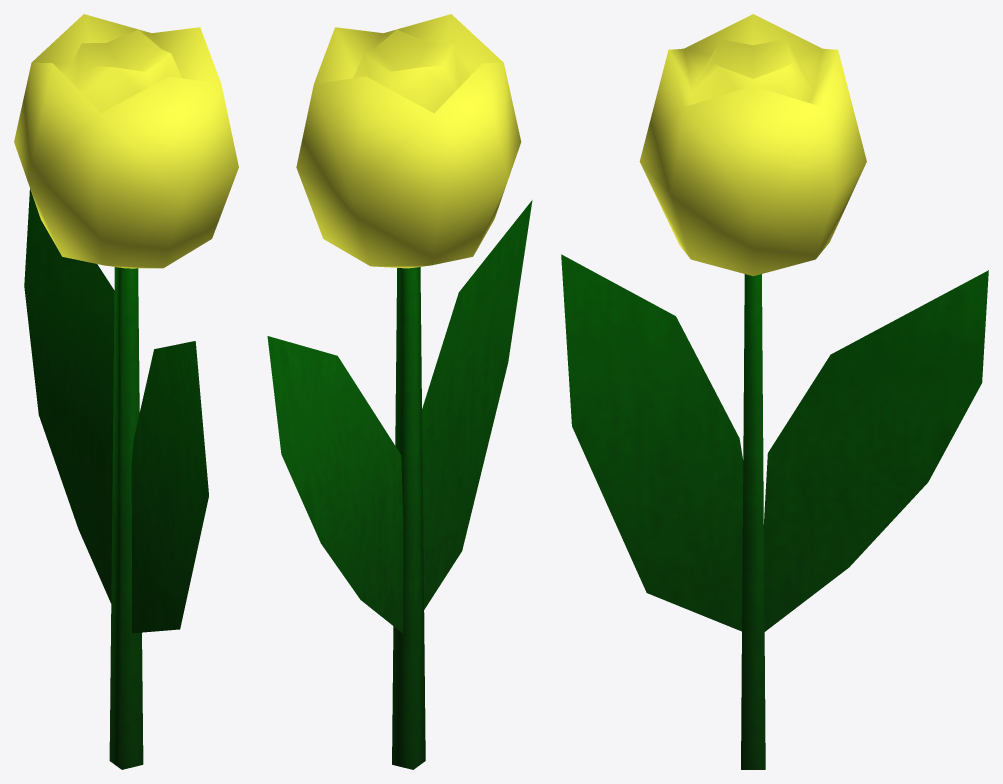
File: turnip.002.fbx
3 renders of one model, left to right at view 1: azimuth 30°, elevation 25°; view 2: azimuth 150°, elevation 25°; view 3: azimuth 270°, elevation 25°, orthographic.
Visible parts, largest first — view 1: turnip.002; view 2: turnip.002; view 3: turnip.002.
Boxes of the visible parts, bbox=[...] form: turnip.002: bbox=[14, 14, 238, 769]; turnip.002: bbox=[267, 14, 532, 769]; turnip.002: bbox=[561, 14, 988, 769].
Size of the model in its own units: 0.1378 by 0.4783 by 0.2594.
